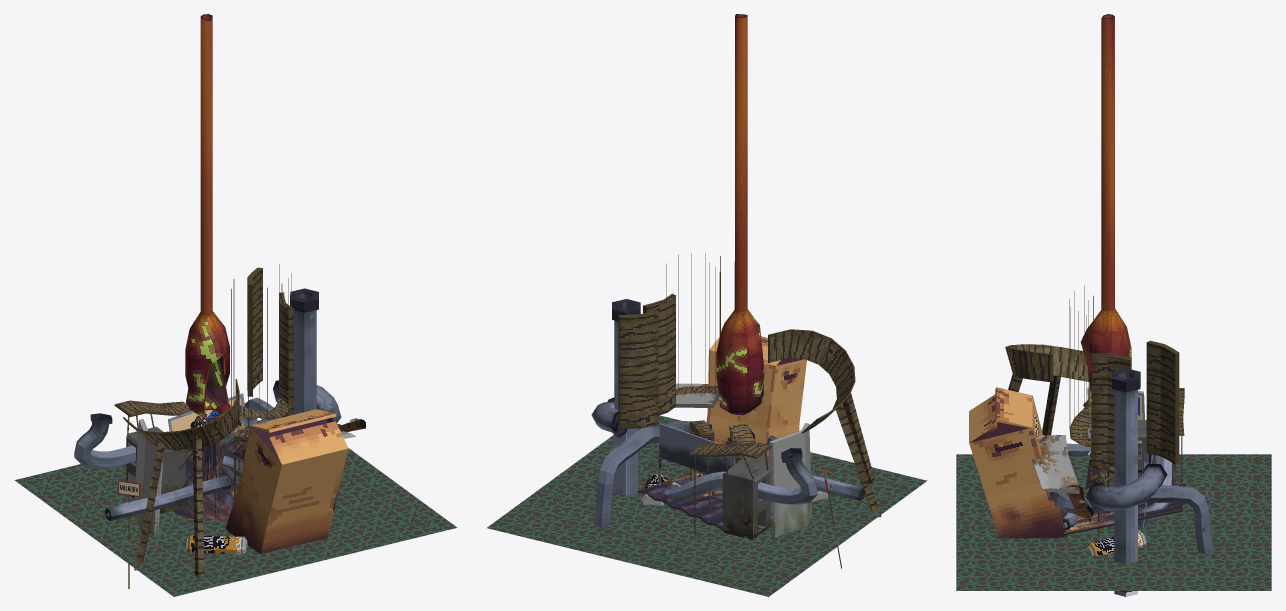
Rendered from NIVELDEF1.glb.
3 views of the same model, side by side, from view 1: azimuth 30°, elevation 25°; view 2: azimuth 150°, elevation 25°; view 3: azimuth 270°, elevation 25° (orthographic).
Parts seen in each view (by area): view 1: NIVELDEF-col; view 2: NIVELDEF-col; view 3: NIVELDEF-col.
Boxes of the visible parts, x1=… form: NIVELDEF-col: x1=14, y1=14, x2=457, y2=596; NIVELDEF-col: x1=487, y1=14, x2=927, y2=596; NIVELDEF-col: x1=956, y1=14, x2=1271, y2=596.
Size of the model in its own units: 96.16 by 176 by 93.64.
12 materials, 12 textured.
